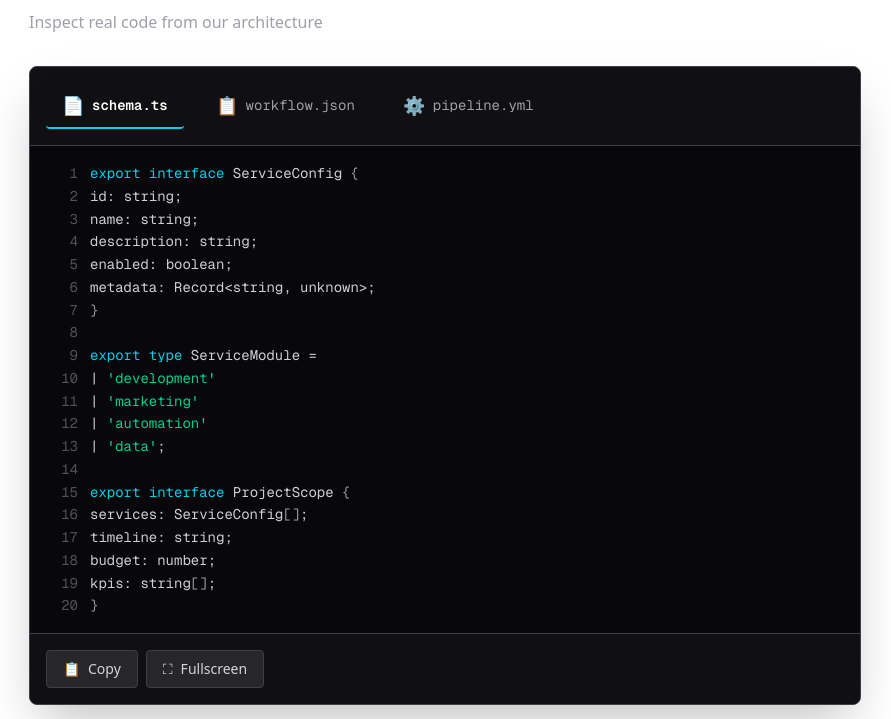
Test case: EngineeringTerminal Component › switches code snippet when clicking tab buttons
Step 1. Click the button "📋 workflow.json" → (285, 106), box [200,83,371,129]
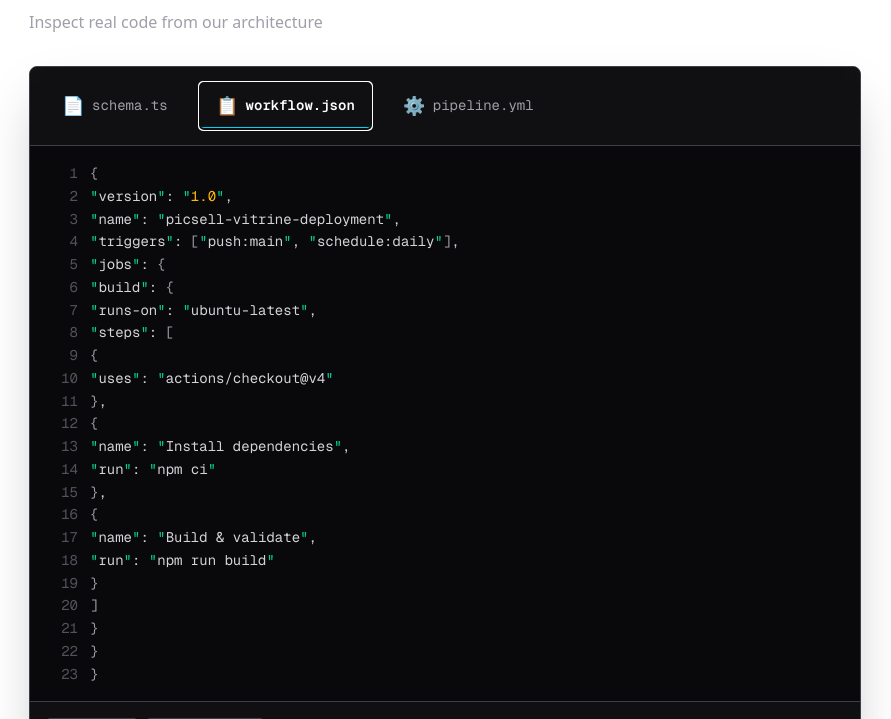
Check: the text "picsell-vitrine-deployment" is shown, box [166,210,384,228]
